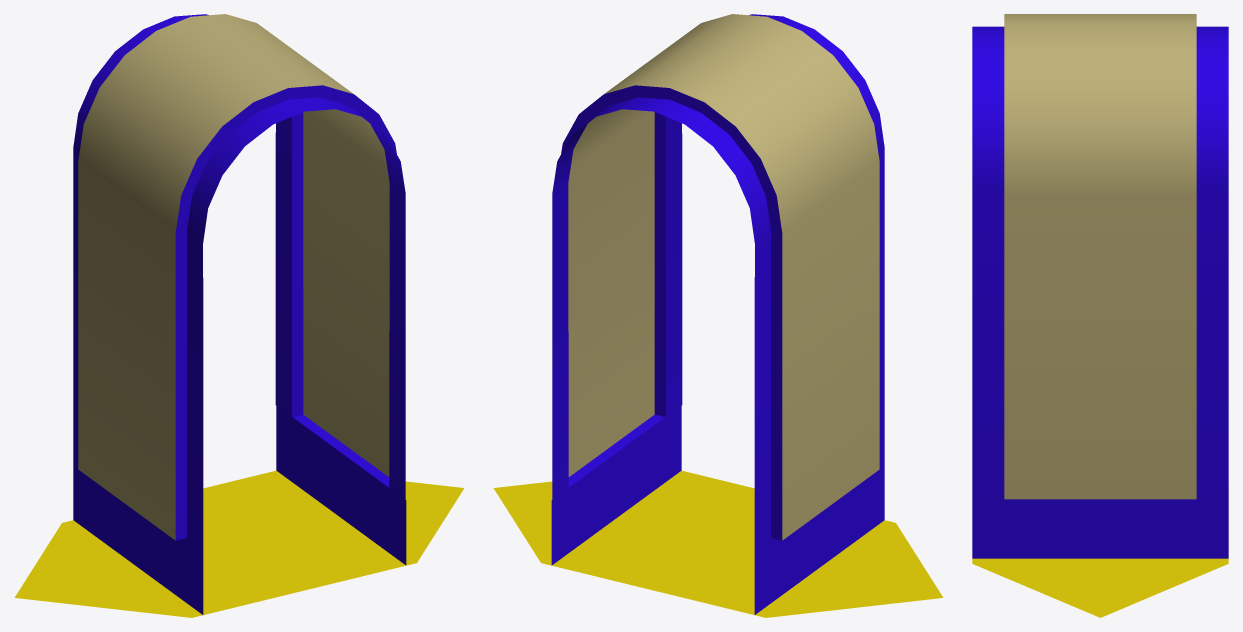
Rendered from StraightV1.fbx.
The picture shows the model from 3 angles, left to right: view 1: azimuth 30°, elevation 25°; view 2: azimuth 150°, elevation 25°; view 3: azimuth 270°, elevation 25°; orthographic projection.
Visible parts, largest first — view 1: StraightV1; view 2: StraightV1; view 3: StraightV1.
Part boxes in pixels (x1=…): StraightV1: x1=14, y1=14, x2=464, y2=617; StraightV1: x1=493, y1=14, x2=943, y2=617; StraightV1: x1=972, y1=14, x2=1228, y2=617.
Bounding box in the file's own units: 240 × 250 × 120.
